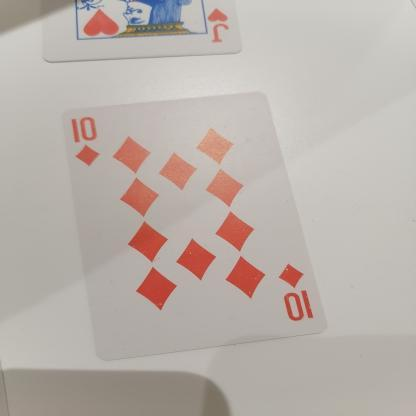10D: (269, 264, 329, 332), (63, 110, 120, 174)
